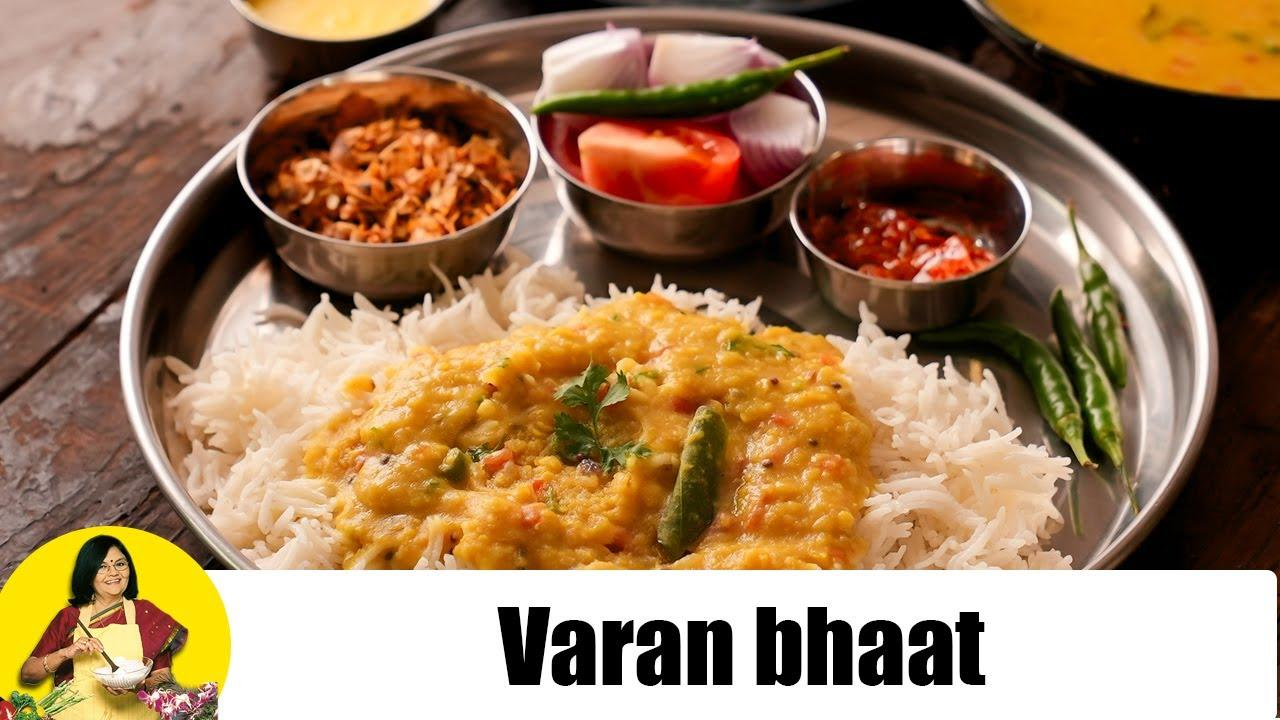rice: (199, 287, 1065, 563)
salad: (549, 33, 814, 138)
varan: (413, 361, 840, 556)
